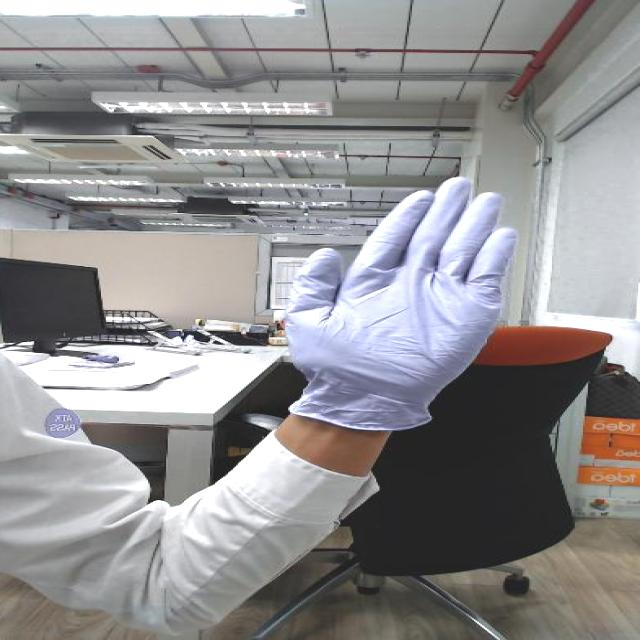glove: (256, 165, 558, 408)
